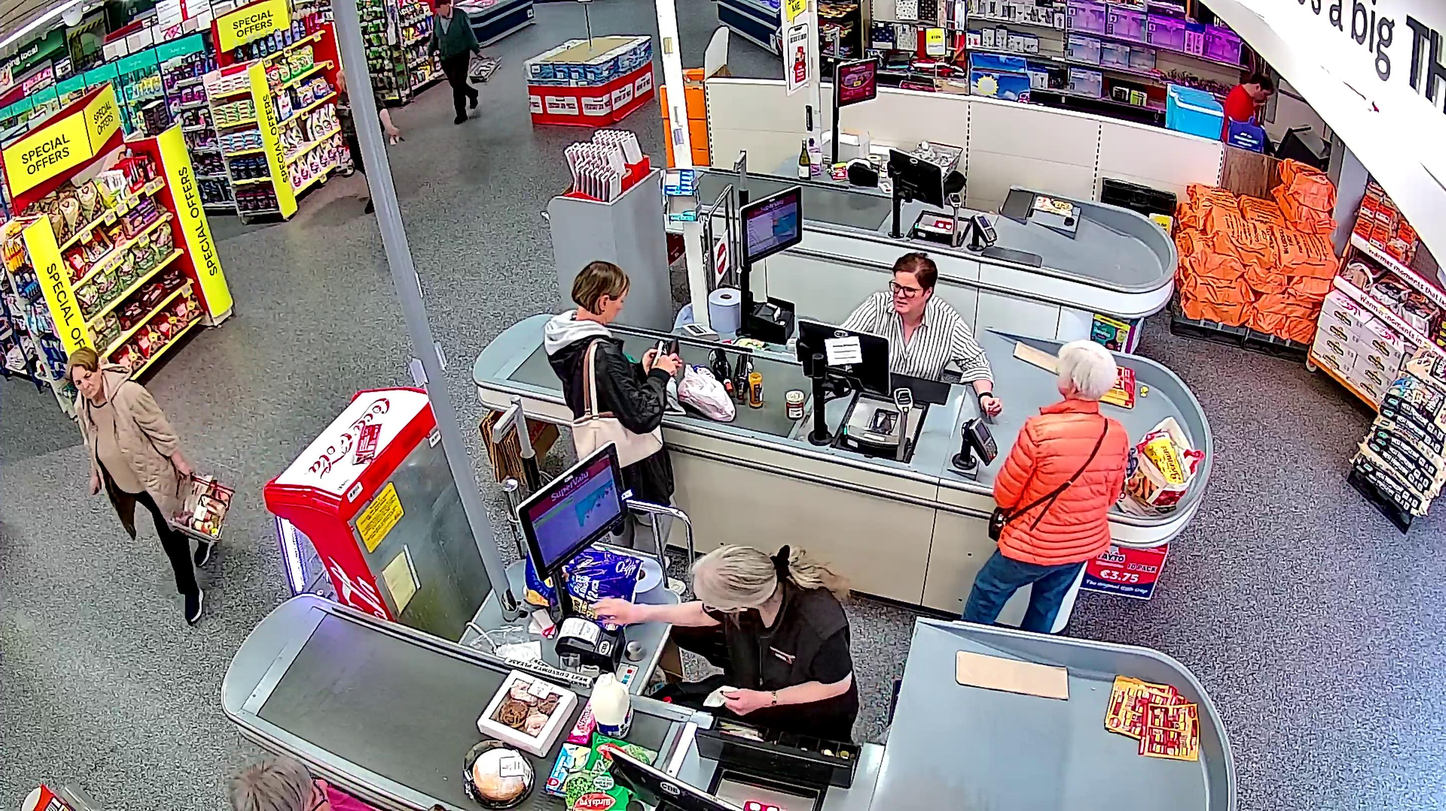filled-basket: (169, 460, 242, 540), (468, 51, 503, 84)
occupied-checkout-counter: (515, 438, 916, 811), (732, 181, 999, 481)
person: (69, 347, 212, 622), (427, 0, 486, 126)
person-with-filled-basket-trolly: (69, 347, 242, 621), (427, 0, 503, 125)
vacant-checkout-counter: (828, 52, 1011, 253)
